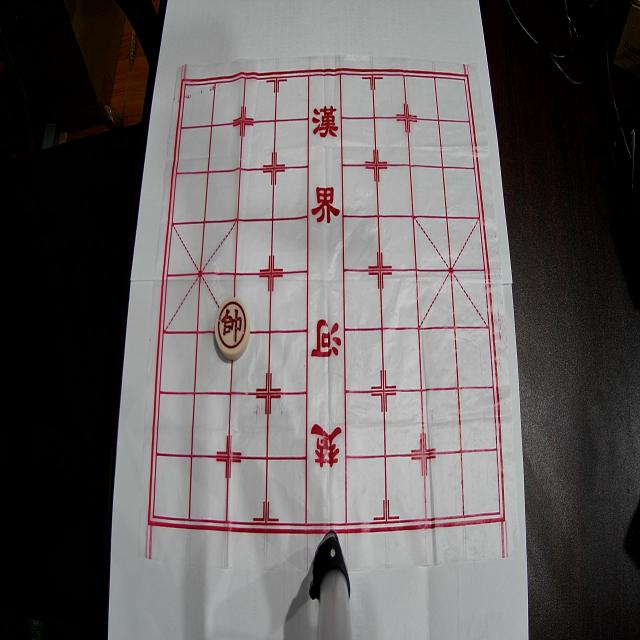red-general: (215, 298, 250, 360)
